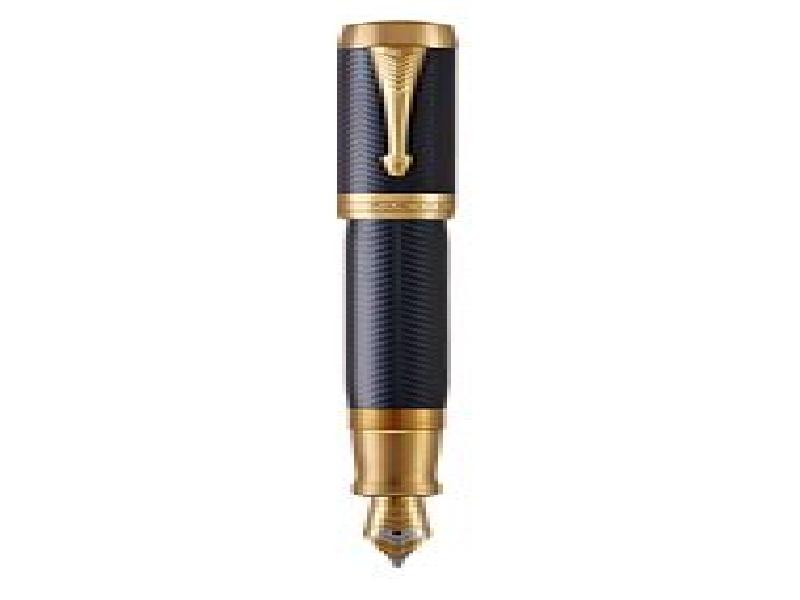pen: (329, 15, 461, 574)
